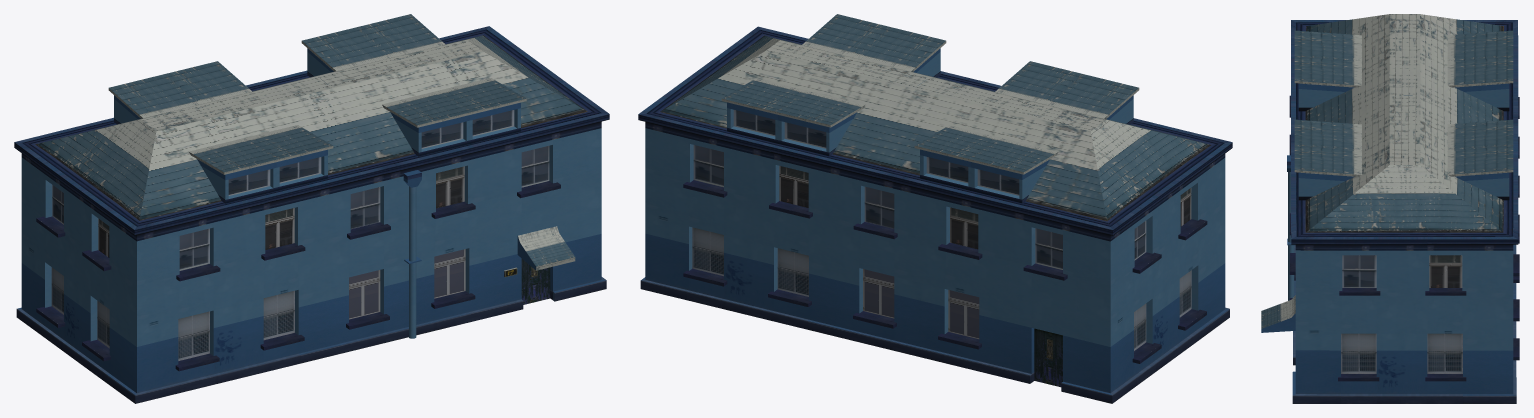
3 views of the same model, side by side, from view 1: azimuth 30°, elevation 25°; view 2: azimuth 150°, elevation 25°; view 3: azimuth 270°, elevation 25° (orthographic). The views are drawn at different scales.
Visible parts, largest first — view 1: Building_Apartment_10; view 2: Building_Apartment_10; view 3: Building_Apartment_10.
Boxes of the visible parts, left/top/right/bottom form: Building_Apartment_10: left=14, top=14, right=609, bottom=403; Building_Apartment_10: left=638, top=14, right=1232, bottom=403; Building_Apartment_10: left=1261, top=14, right=1519, bottom=403.
Bounding box in the file's own units: 73.91 × 32.2 × 36.63.
1 material, 1 textured.
